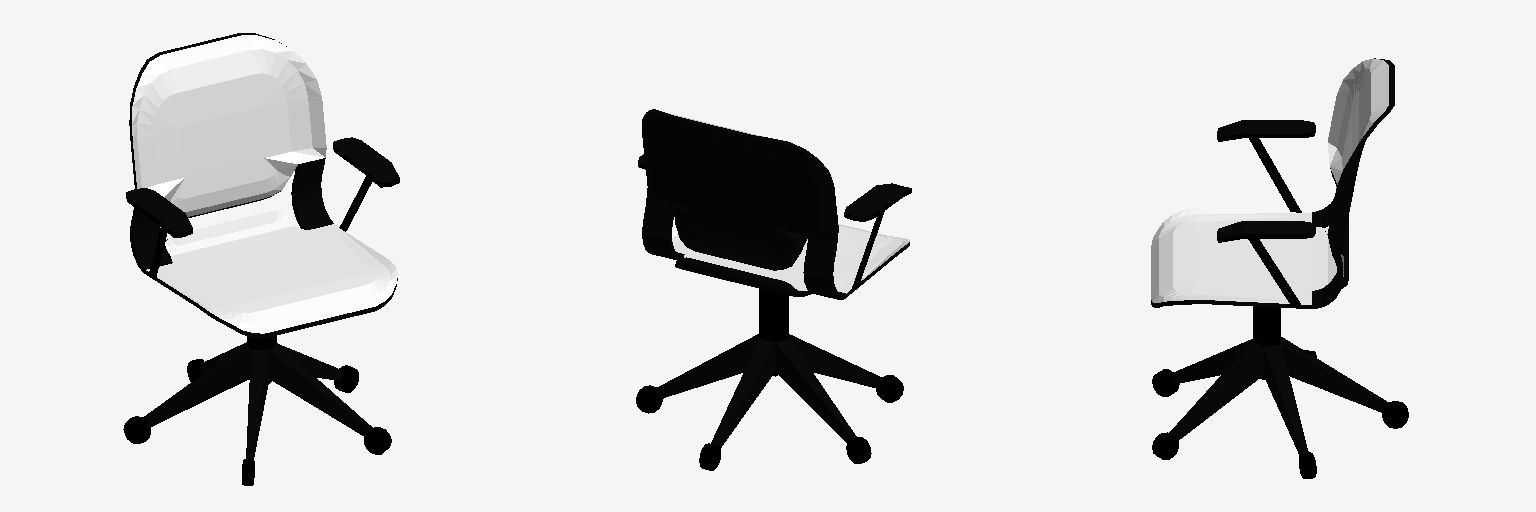
File: officeChair.obj
3 views of the same model, side by side, from view 1: azimuth 30°, elevation 25°; view 2: azimuth 150°, elevation 25°; view 3: azimuth 270°, elevation 25° (orthographic).
Parts seen in each view (by area): view 1: OfficeChair_1, OfficeChair_2, OfficeChair_3; view 2: OfficeChair_2, OfficeChair_3, OfficeChair_1; view 3: OfficeChair_1, OfficeChair_2, OfficeChair_3.
Boxes of the visible parts, box(x1,y1,x2,y2) form: OfficeChair_1: box(132, 35, 397, 333); OfficeChair_2: box(126, 33, 399, 459); OfficeChair_3: box(123, 145, 399, 485); OfficeChair_2: box(638, 109, 910, 447); OfficeChair_3: box(636, 162, 911, 470); OfficeChair_1: box(665, 112, 909, 293); OfficeChair_1: box(1151, 58, 1388, 304); OfficeChair_2: box(1151, 58, 1394, 454); OfficeChair_3: box(1152, 129, 1408, 478).
Size of the model in its own units: 62.62 by 87.33 by 59.67.